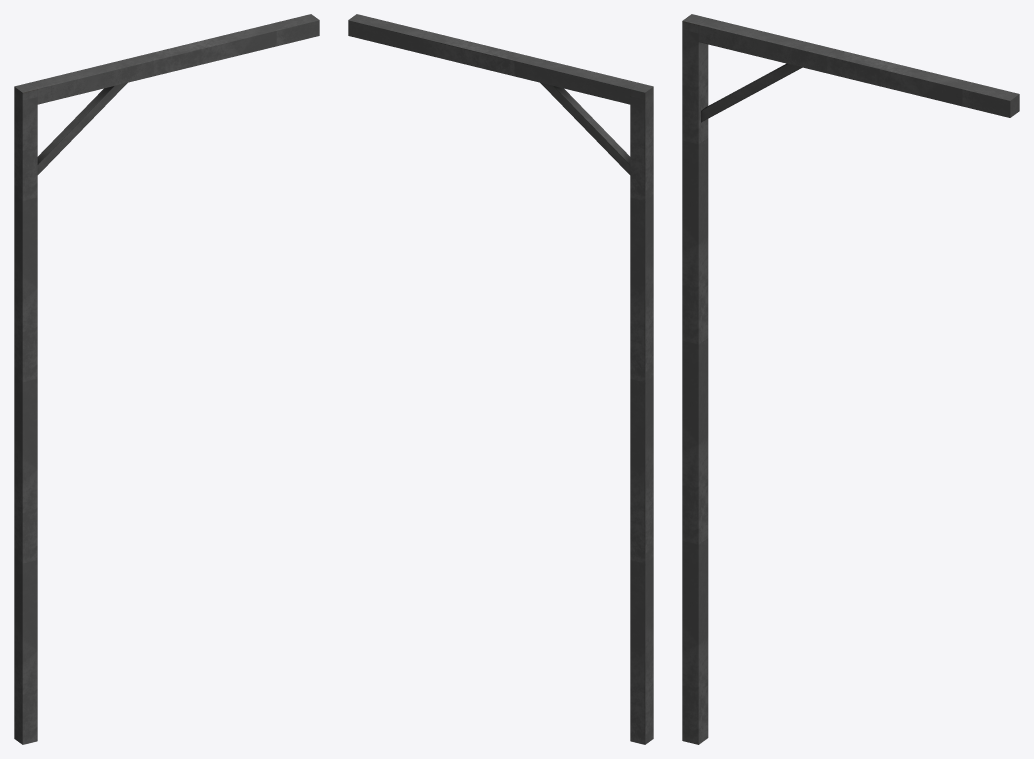
File: pole_lshape_w100cm_250cm.obj
3 views of the same model, side by side, from view 1: azimuth 30°, elevation 25°; view 2: azimuth 150°, elevation 25°; view 3: azimuth 330°, elevation 25° (orthographic). The views are drawn at different scales.
Parts seen in each view (by area): view 1: pole_l250w100, pole_lshape_l250w100, pole_l250w100_2, pole_end_l250w100; view 2: pole_l250w100, pole_lshape_l250w100, pole_l250w100_2, pole_end_l250w100; view 3: pole_l250w100, pole_lshape_l250w100, pole_l250w100_2, pole_end_l250w100.
Boxes of the visible parts, x1,y1,x2,y2 form: pole_l250w100: (14, 94, 37, 744); pole_lshape_l250w100: (14, 54, 153, 174); pole_l250w100_2: (145, 24, 276, 76); pole_end_l250w100: (268, 14, 319, 46); pole_l250w100: (630, 94, 653, 744); pole_lshape_l250w100: (514, 54, 653, 174); pole_l250w100_2: (391, 24, 522, 76); pole_end_l250w100: (348, 14, 399, 46); pole_l250w100: (682, 29, 708, 744); pole_lshape_l250w100: (682, 14, 835, 122); pole_l250w100_2: (826, 49, 971, 106); pole_end_l250w100: (962, 82, 1019, 117).
Bounding box in the file's own units: 1.21 × 2.53 × 0.0604.
1 material, 1 textured.
